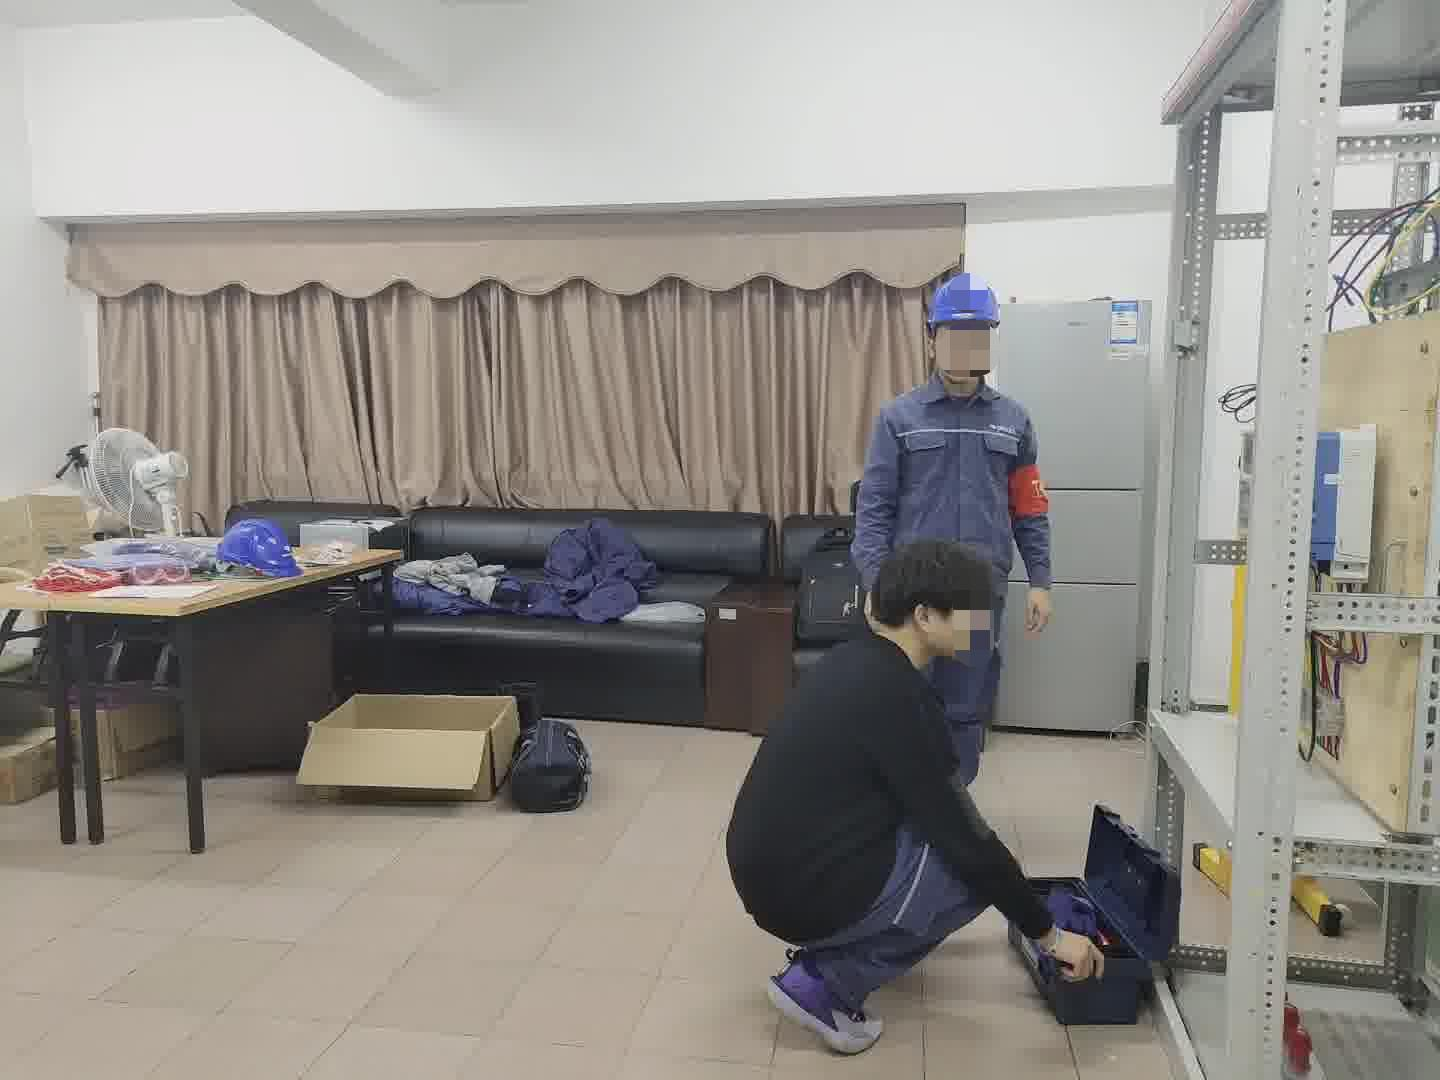halt: (923, 275, 1005, 388)
noear: (905, 597, 951, 659)
unhalt: (873, 540, 999, 667)
